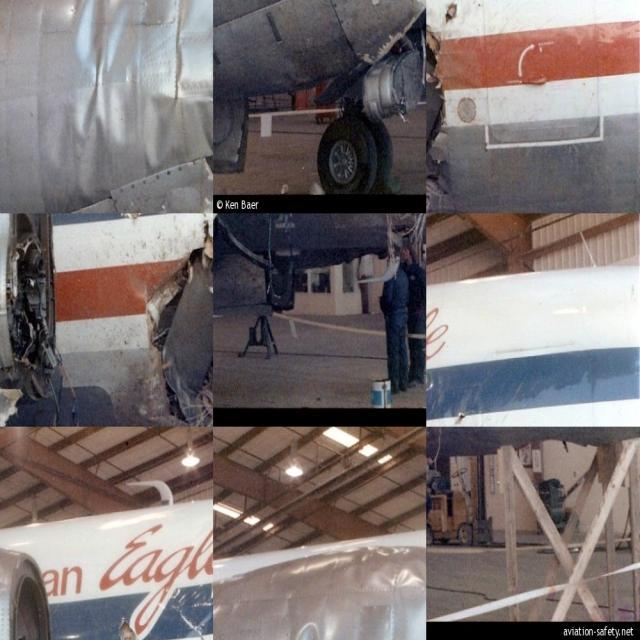dent: (46, 1, 212, 208)
